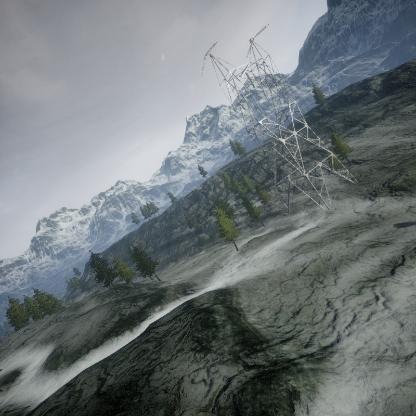tower: (206, 22, 360, 208)
